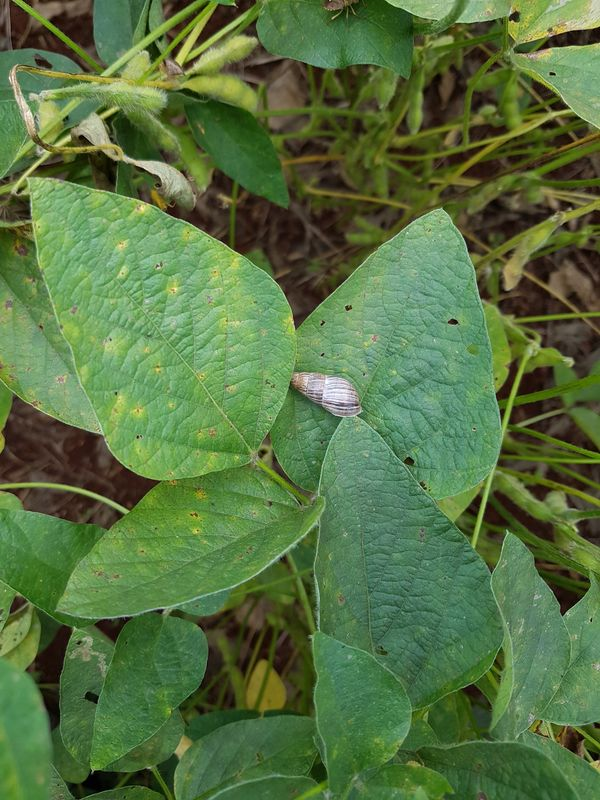Euschistus_heros_adulto: (147, 49, 191, 90)
Gastropoda: (282, 355, 370, 428)
